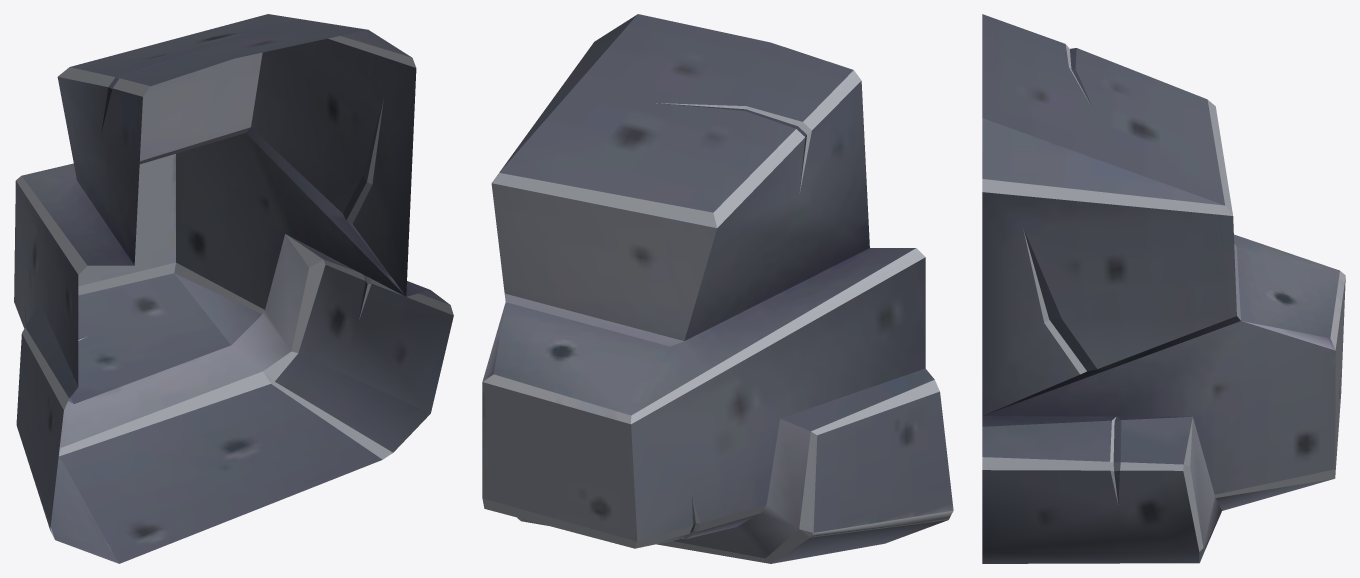
File: Rock.fbx
The picture shows the model from 3 angles, left to right: view 1: azimuth 30°, elevation 25°; view 2: azimuth 150°, elevation 25°; view 3: azimuth 270°, elevation 25°; orthographic projection.
Parts seen in each view (by area): view 1: Rock; view 2: Rock; view 3: Rock.
Part boxes in pixels (x1,y1,x2,y2): Rock: [14, 14, 453, 563]; Rock: [482, 14, 953, 563]; Rock: [982, 14, 1345, 563].
Bounding box in the file's own units: 69.84 × 78.9 × 53.88.
